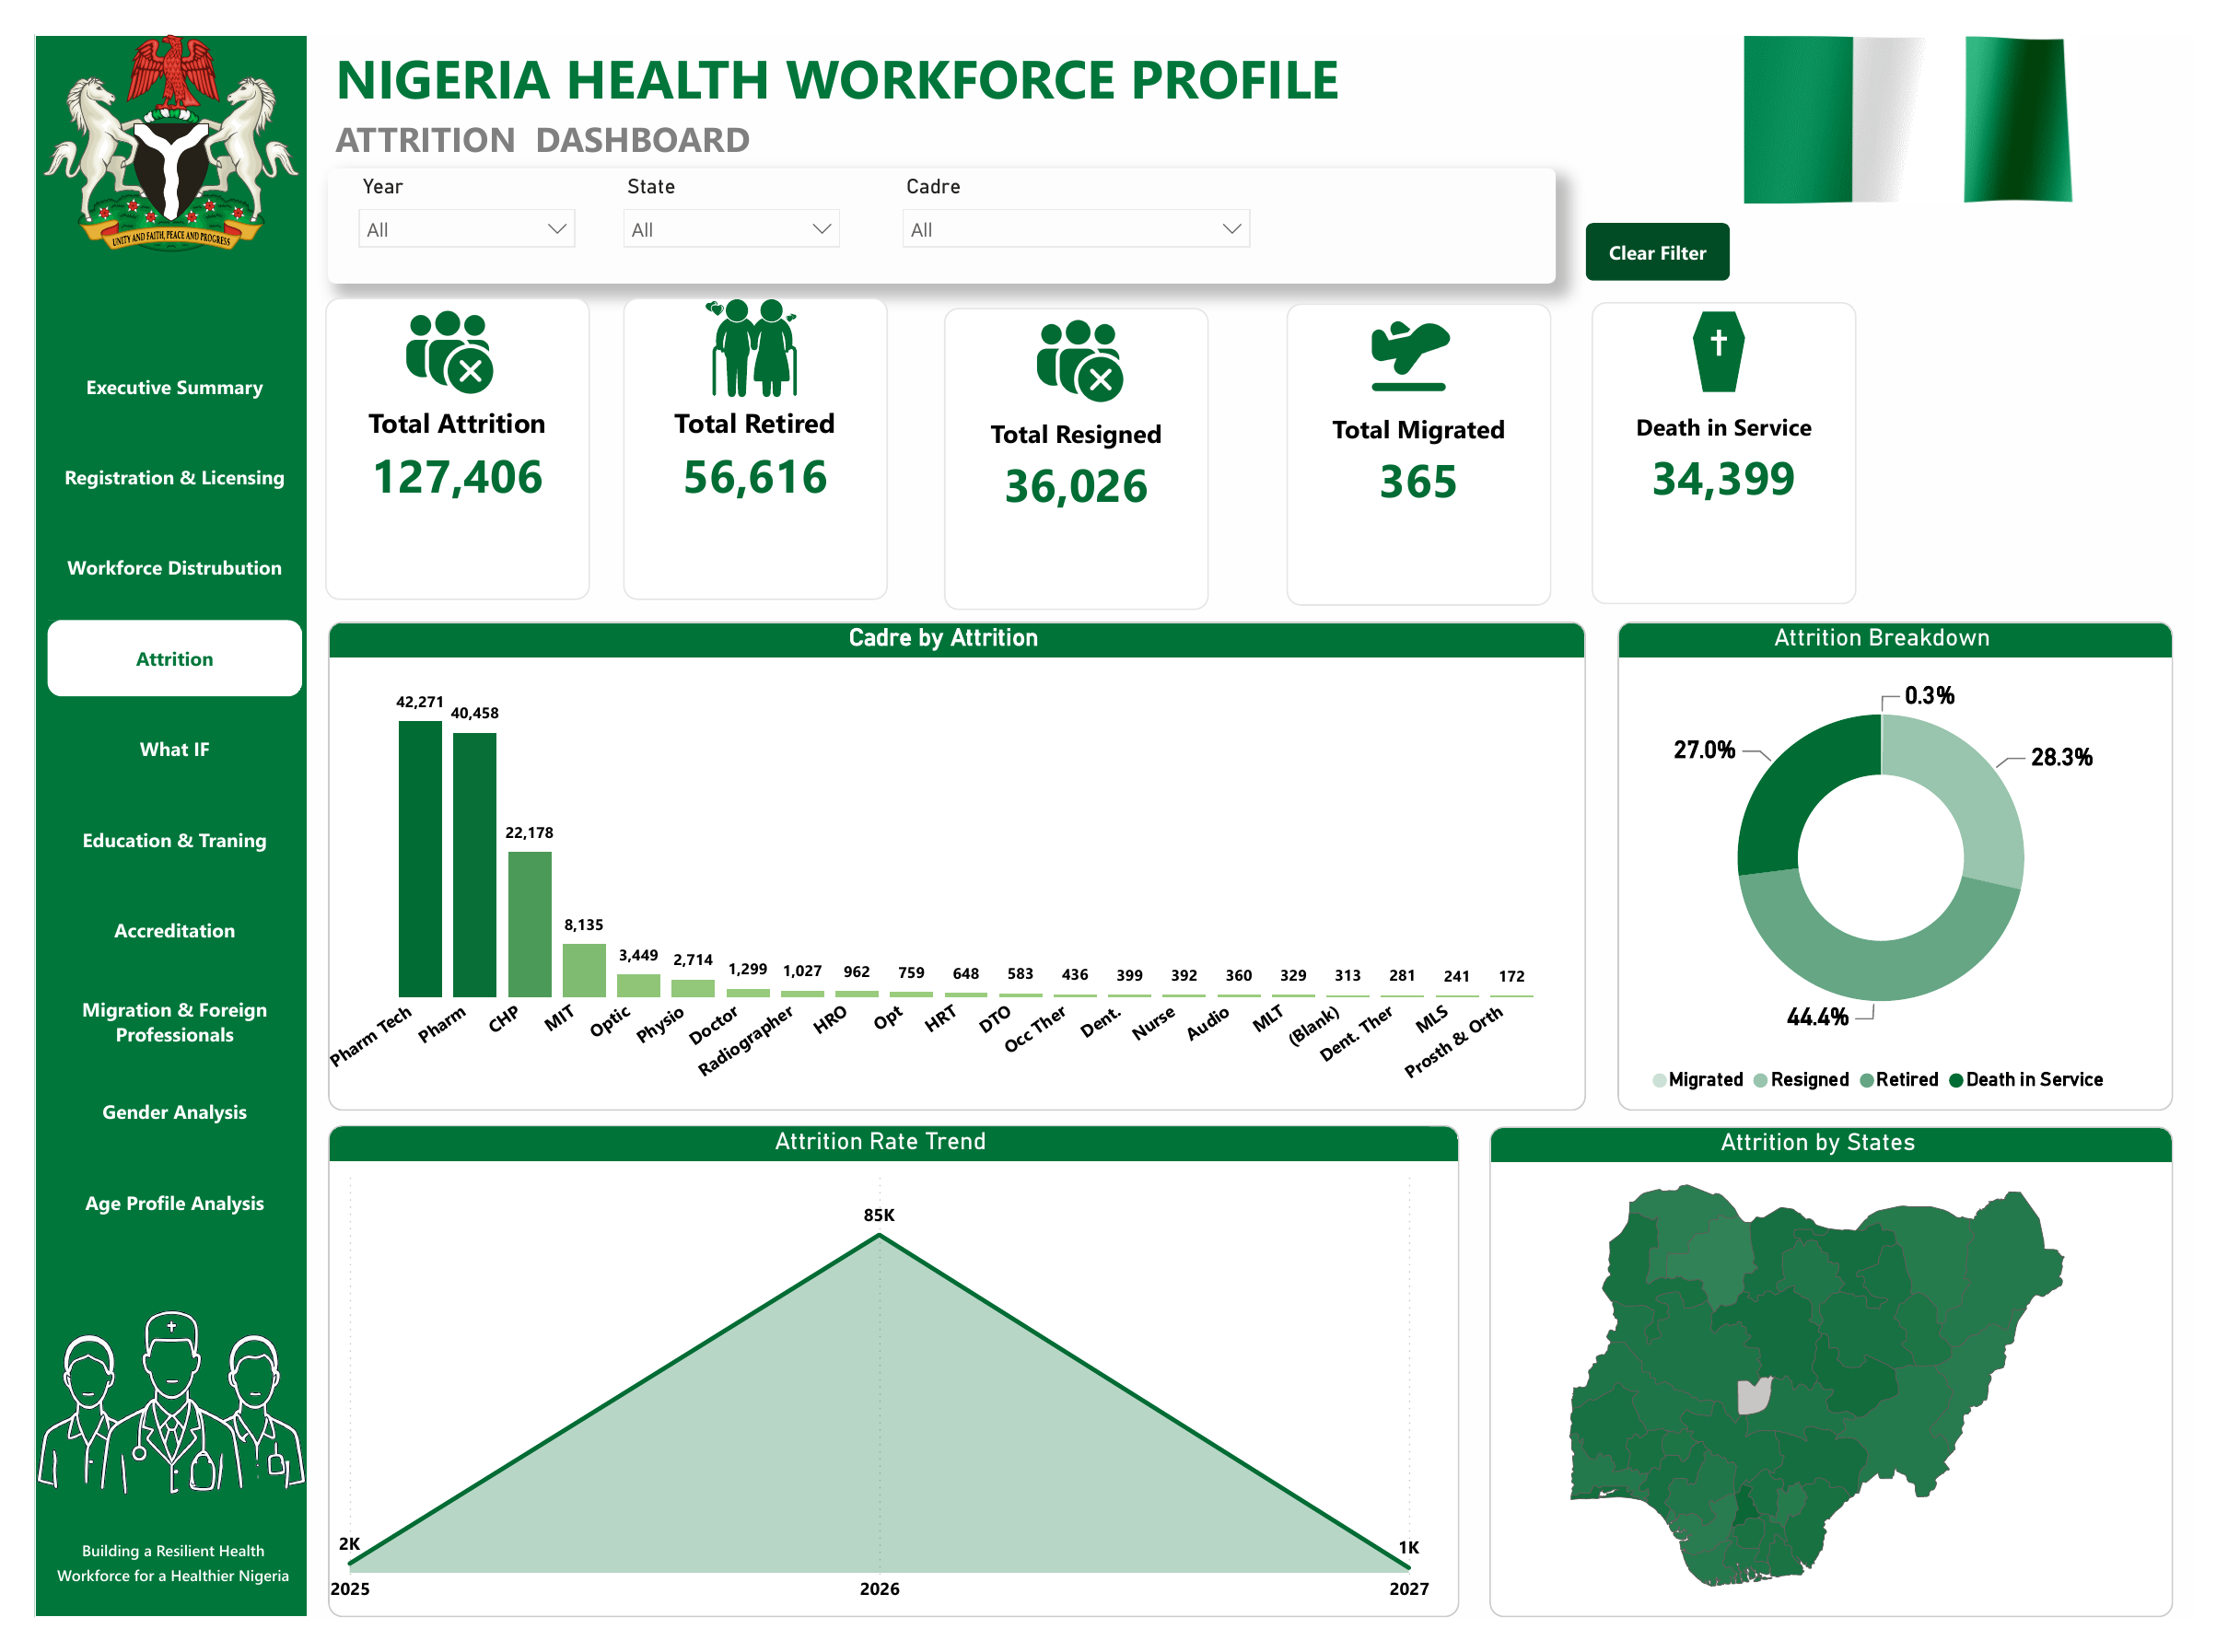

This screenshot's page, from the dashboard's own definition file:
{"tool":"powerbi","page":{"name":"Attrition","canvas":[1500,1100],"ordinal":4},"visuals":[{"type":"shape","box":[0,0,1499.5,1100],"z":0},{"type":"shape","box":[0,0,190,1100],"z":1000},{"type":"image","box":[0,880,190,152],"z":2000},{"type":"textbox","box":[6,1039,184,61],"z":3000},{"type":"image","box":[0,0,189.9,151.3],"z":4000},{"type":"textbox","box":[204.2,0,729.9,75.2],"z":5000},{"type":"textbox","box":[204,51,530,58],"z":6000},{"type":"shape","box":[204.2,93.1,852.5,79.7],"z":7000},{"type":"slicer","fields":{"Values":["Dim Year.Year"]},"box":[214.9,93.1,171,58.2],"z":8000},{"type":"slicer","fields":{"Values":["Dim State.State"]},"box":[398.5,93.1,171,58.2],"z":9000},{"type":"slicer","fields":{"Values":["Dim Cadre.Cadre"]},"box":[592.8,93.1,262.4,58.2],"z":10000},{"type":"actionButton","box":[1078,131,100,40],"z":11000},{"type":"clusteredColumnChart","title":"Cadre by Attrition ","fields":{"Category":["Dim Cadre.Cadre Abb"],"Y":["DAX.Total Attrition"]},"box":[203.9,407.7,874.3,340.7],"z":12000},{"type":"group","id":"g1","title":"Group 1","box":[202,183,184,210],"z":13000},{"type":"shape","box":[202,183,184,210],"z":14000,"group":"g1"},{"type":"shape","box":[409.1,183.3,184,210],"z":14000,"group":"g2"},{"type":"shape","box":[1082.2,186.1,184,210],"z":14000,"group":"g5"},{"type":"shape","box":[870.1,187.4,184,210],"z":14000,"group":"g4"},{"type":"shape","box":[632.1,190.5,184,210],"z":14000,"group":"g3"},{"type":"donutChart","title":"Attrition Breakdown","fields":{"Y":["DAX.Total Migrated","DAX.Total Resigned","DAX.Total Retired","DAX.Death in Service"]},"box":[1100,407.7,385.8,340.7],"z":15000},{"type":"group","id":"g2","title":"Group 1","box":[409.1,183.3,184,210],"z":16000},{"type":"group","id":"g3","title":"Group 1","box":[632.1,190.2,183.3,209.3],"z":17000},{"type":"group","id":"g4","title":"Group 1","box":[870.1,187.4,183.3,210.7],"z":18000},{"type":"group","id":"g5","title":"Group 1","box":[1082.2,186.1,183.3,209.3],"z":19000},{"type":"areaChart","title":"Attrition Rate Trend ","fields":{"Category":["Dim Year.Year"],"Y":["DAX.Total Attrition"]},"box":[203.6,758.5,786.5,341.9],"z":20000},{"type":"image","box":[1188,0,232,118],"z":21000},{"type":"pageNavigator","box":[9.1,218.2,177.3,621.8],"z":22000},{"type":"shapeMap","title":"Attrition by States","fields":{"Category":["Dim State.State"],"Value":["DAX.Total Attrition"]},"box":[1011.1,759.3,474.8,340.7],"z":23000},{"type":"cardVisual","fields":{"Data":["DAX.Total Attrition"]},"box":[202,231,184,122],"z":28000,"group":"g1"},{"type":"cardVisual","fields":{"Data":["DAX.Total Retired"]},"box":[409.1,231.3,184,122],"z":28000,"group":"g2"},{"type":"cardVisual","fields":{"Data":["DAX.Death in Service"]},"box":[1082.2,234.1,184,122],"z":28000,"group":"g5"},{"type":"cardVisual","fields":{"Data":["DAX.Total Migrated"]},"box":[870.1,235.4,184,122],"z":28000,"group":"g4"},{"type":"cardVisual","fields":{"Data":["DAX.Total Resigned"]},"box":[632.1,238.5,184,122],"z":28000,"group":"g3"},{"type":"image","box":[250,184,73,68],"z":29000,"group":"g1"},{"type":"image","box":[461.1,184.3,73,68],"z":29000,"group":"g2"},{"type":"image","box":[1134.2,187.5,72.5,67],"z":29000,"group":"g5"},{"type":"image","box":[918.1,188.4,73,68],"z":29000,"group":"g4"},{"type":"image","box":[688.2,190.2,73,68],"z":29000,"group":"g3"}]}

Visuals, with their boxes on the page's 1500x1100 design canvas (x1, y1, x2, y2). These are canvas units, not pixel positions in the 2228x1652 screenshot, which may show the page scaled, cropped or inside an application window:
shape: select_region(0, 0, 1500, 1100)
shape: select_region(0, 0, 190, 1100)
image: select_region(0, 880, 190, 1032)
textbox: select_region(6, 1039, 190, 1100)
image: select_region(0, 0, 190, 151)
textbox: select_region(204, 0, 934, 75)
textbox: select_region(204, 51, 734, 109)
shape: select_region(204, 93, 1057, 173)
slicer - Dim Year.Year: select_region(215, 93, 386, 151)
slicer - Dim State.State: select_region(398, 93, 570, 151)
slicer - Dim Cadre.Cadre: select_region(593, 93, 855, 151)
actionButton: select_region(1078, 131, 1178, 171)
"Cadre by Attrition " clusteredColumnChart: select_region(204, 408, 1078, 748)
"Group 1" group: select_region(202, 183, 386, 393)
shape: select_region(202, 183, 386, 393)
shape: select_region(409, 183, 593, 393)
shape: select_region(1082, 186, 1266, 396)
shape: select_region(870, 187, 1054, 397)
shape: select_region(632, 190, 816, 400)
"Attrition Breakdown" donutChart: select_region(1100, 408, 1486, 748)
"Group 1" group: select_region(409, 183, 593, 393)
"Group 1" group: select_region(632, 190, 815, 400)
"Group 1" group: select_region(870, 187, 1053, 398)
"Group 1" group: select_region(1082, 186, 1266, 395)
"Attrition Rate Trend " areaChart: select_region(204, 758, 990, 1100)
image: select_region(1188, 0, 1420, 118)
pageNavigator: select_region(9, 218, 186, 840)
"Attrition by States" shapeMap: select_region(1011, 759, 1486, 1100)
cardVisual - DAX.Total Attrition: select_region(202, 231, 386, 353)
cardVisual - DAX.Total Retired: select_region(409, 231, 593, 353)
cardVisual - DAX.Death in Service: select_region(1082, 234, 1266, 356)
cardVisual - DAX.Total Migrated: select_region(870, 235, 1054, 357)
cardVisual - DAX.Total Resigned: select_region(632, 238, 816, 360)
image: select_region(250, 184, 323, 252)
image: select_region(461, 184, 534, 252)
image: select_region(1134, 188, 1207, 254)
image: select_region(918, 188, 991, 256)
image: select_region(688, 190, 761, 258)
